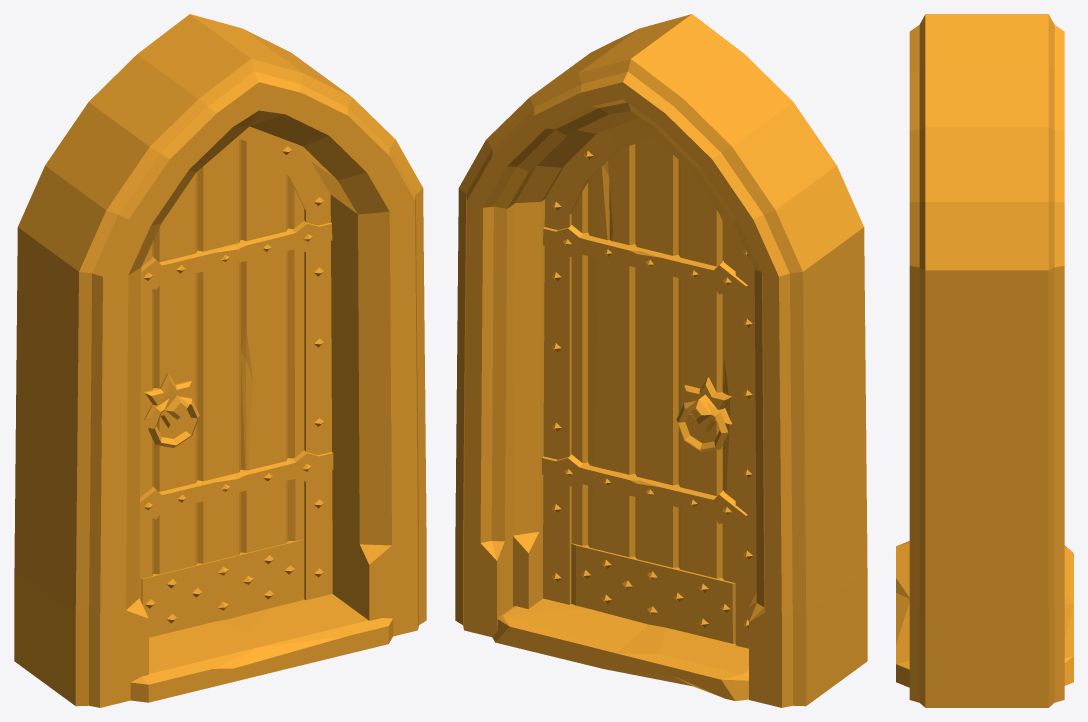
The model's file is SM_Door_Stone_Single_Fantasy.fbx.
3 views of the same model, side by side, from view 1: azimuth 30°, elevation 25°; view 2: azimuth 150°, elevation 25°; view 3: azimuth 270°, elevation 25° (orthographic).
Visible parts, largest first — view 1: SM_Door_Stone_Single_Fantasy_Frame, SM_Door_Stone_Single_Fantasy_Door; view 2: SM_Door_Stone_Single_Fantasy_Frame, SM_Door_Stone_Single_Fantasy_Door; view 3: SM_Door_Stone_Single_Fantasy_Frame.
Boxes of the visible parts, bbox=[...] form: SM_Door_Stone_Single_Fantasy_Frame: bbox=[14, 14, 426, 707]; SM_Door_Stone_Single_Fantasy_Door: bbox=[139, 126, 333, 637]; SM_Door_Stone_Single_Fantasy_Frame: bbox=[455, 14, 867, 707]; SM_Door_Stone_Single_Fantasy_Door: bbox=[542, 117, 756, 648]; SM_Door_Stone_Single_Fantasy_Frame: bbox=[896, 14, 1073, 707].
Bounding box in the file's own units: 1.61 × 2.66 × 0.7048.
